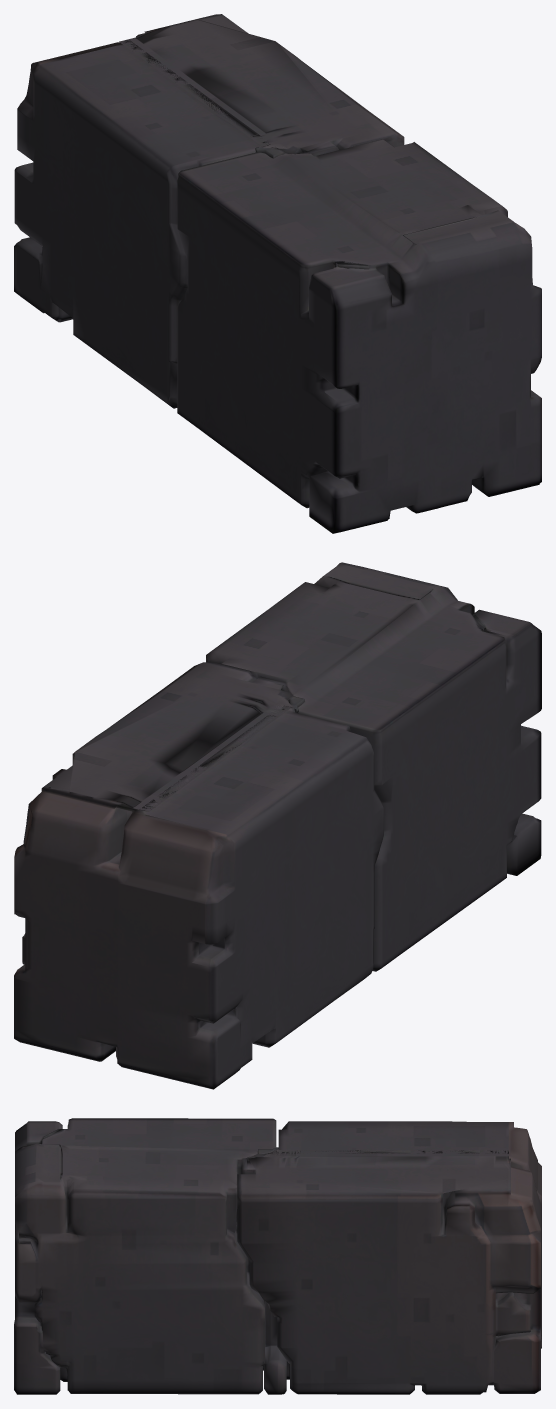
Rendered from wall_2m.glb.
The picture shows the model from 3 angles, top to bottom: view 1: azimuth 30°, elevation 25°; view 2: azimuth 150°, elevation 25°; view 3: azimuth 270°, elevation 25°; orthographic projection. The views are drawn at different scales.
Parts seen in each view (by area): view 1: tripo_node_0c94ce12-ff63-41a3-8b8b-d6bf9933f88b; view 2: tripo_node_0c94ce12-ff63-41a3-8b8b-d6bf9933f88b; view 3: tripo_node_0c94ce12-ff63-41a3-8b8b-d6bf9933f88b.
Boxes of the visible parts, left/top/right/bottom form: tripo_node_0c94ce12-ff63-41a3-8b8b-d6bf9933f88b: left=14, top=14, right=541, bottom=533; tripo_node_0c94ce12-ff63-41a3-8b8b-d6bf9933f88b: left=14, top=562, right=541, bottom=1089; tripo_node_0c94ce12-ff63-41a3-8b8b-d6bf9933f88b: left=14, top=1118, right=541, bottom=1394.
Bounding box in the file's own units: 0.3718 × 0.4344 × 1.
1 material, 1 textured.
